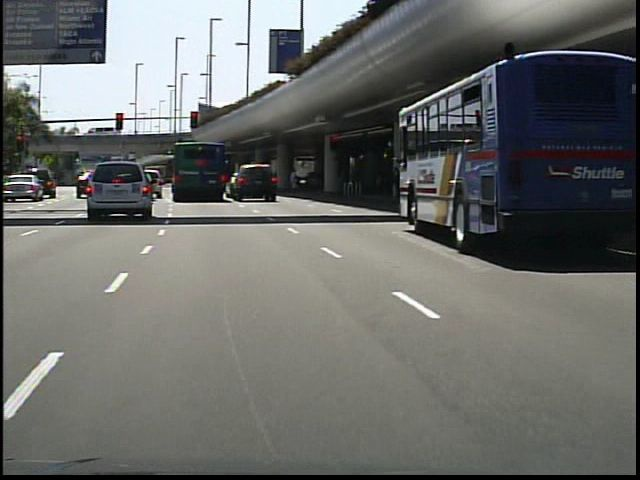person: (286, 161, 306, 198)
